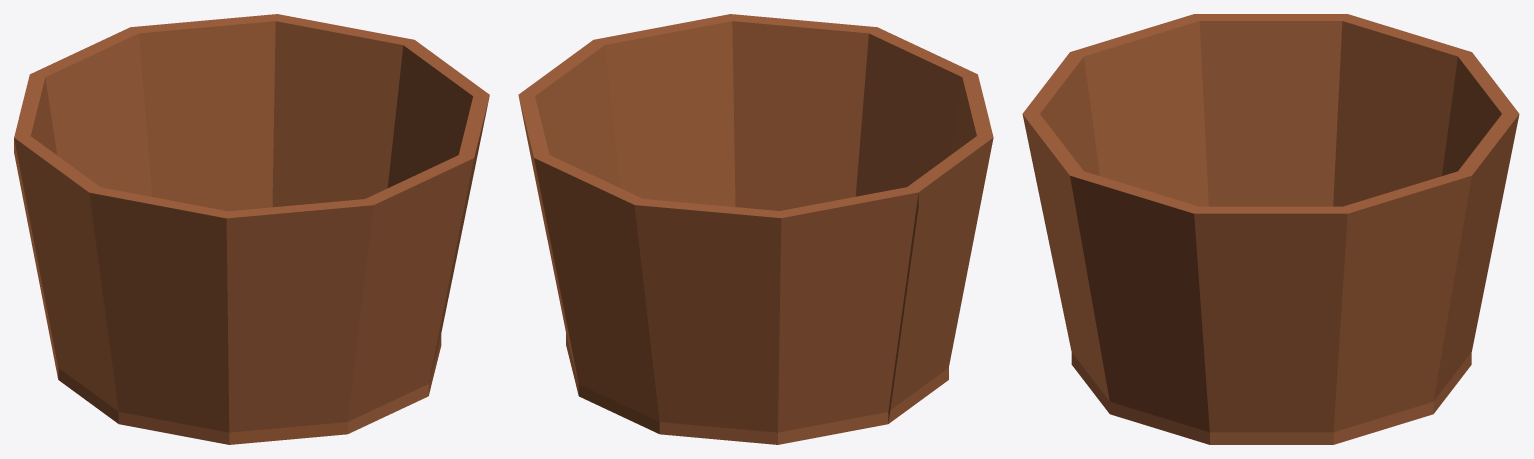
Rendered from bucket01.obj.
3 views of the same model, side by side, from view 1: azimuth 30°, elevation 25°; view 2: azimuth 150°, elevation 25°; view 3: azimuth 270°, elevation 25° (orthographic). The views are drawn at different scales.
Parts seen in each view (by area): view 1: Cylinder_Cylinder.004; view 2: Cylinder_Cylinder.004; view 3: Cylinder_Cylinder.004.
Part boxes in pixels (<box>): Cylinder_Cylinder.004: <box>14,14,489,444</box>; Cylinder_Cylinder.004: <box>518,14,993,444</box>; Cylinder_Cylinder.004: <box>1022,14,1519,444</box>.
Size of the model in its own units: 0.8149 by 0.4786 by 0.8568.
